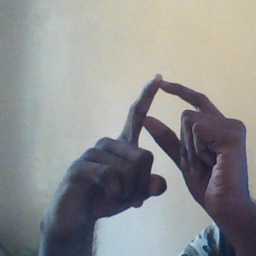D: (101, 65, 232, 173)
